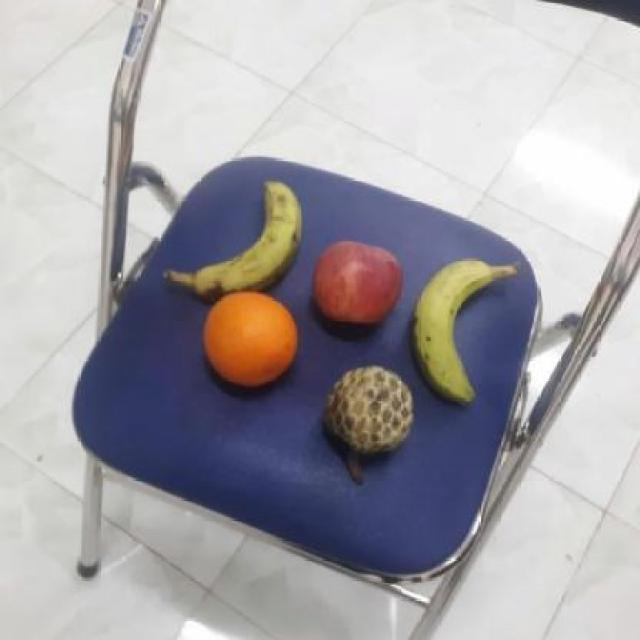apple: (308, 238, 402, 329)
banana: (181, 175, 307, 299), (410, 258, 515, 400)
oren: (201, 288, 299, 390)
sugar apple: (323, 364, 419, 458)
